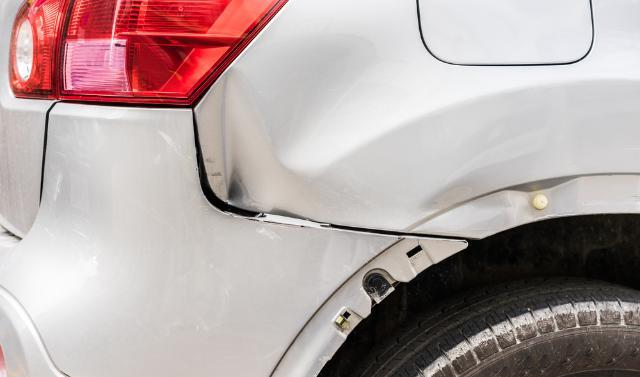dent: (218, 43, 381, 213), (423, 179, 510, 225)
dislocated part: (186, 105, 460, 248)
